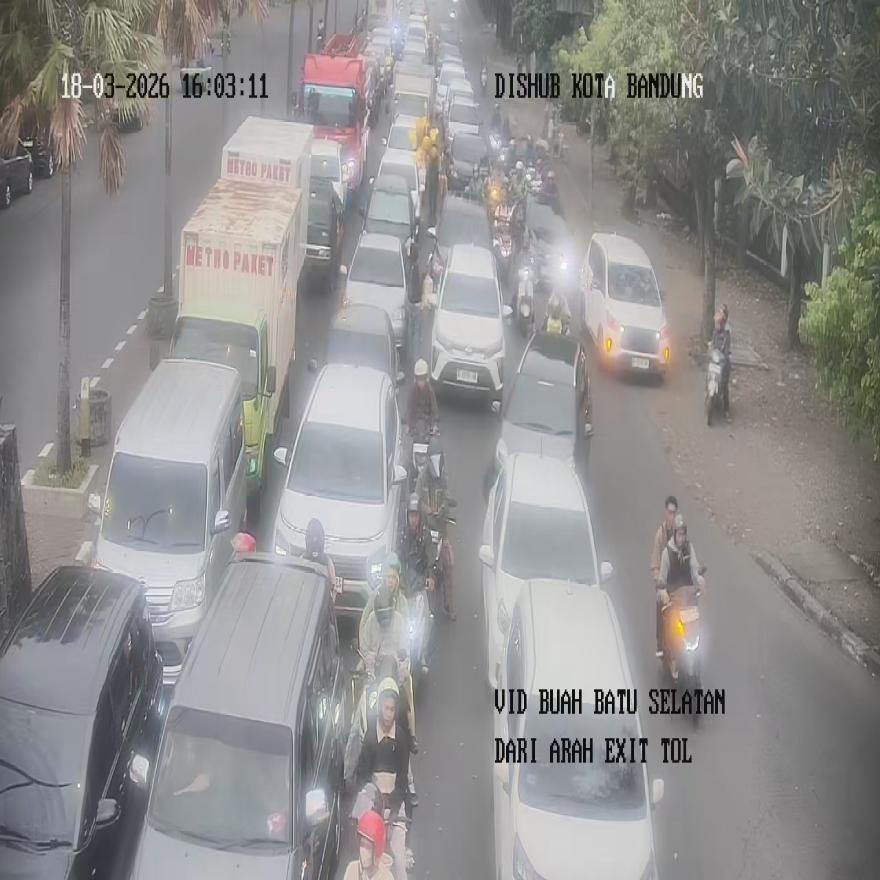Bis mini: (86, 359, 248, 682)
Mobil: (127, 551, 347, 878), (5, 559, 169, 872), (492, 580, 663, 878), (271, 360, 410, 619), (479, 451, 611, 689), (492, 330, 593, 475), (430, 244, 513, 407), (581, 230, 670, 376)
Motor: (657, 567, 706, 719), (705, 345, 728, 424), (513, 257, 534, 336)
Truk ringan: (161, 178, 302, 495)
